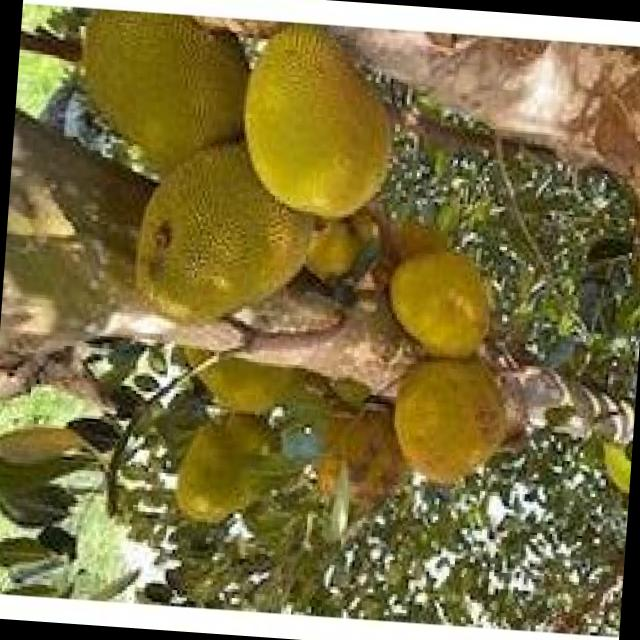Fruit: (100, 111, 338, 366), (224, 21, 413, 236), (368, 337, 546, 511), (357, 230, 514, 376)
